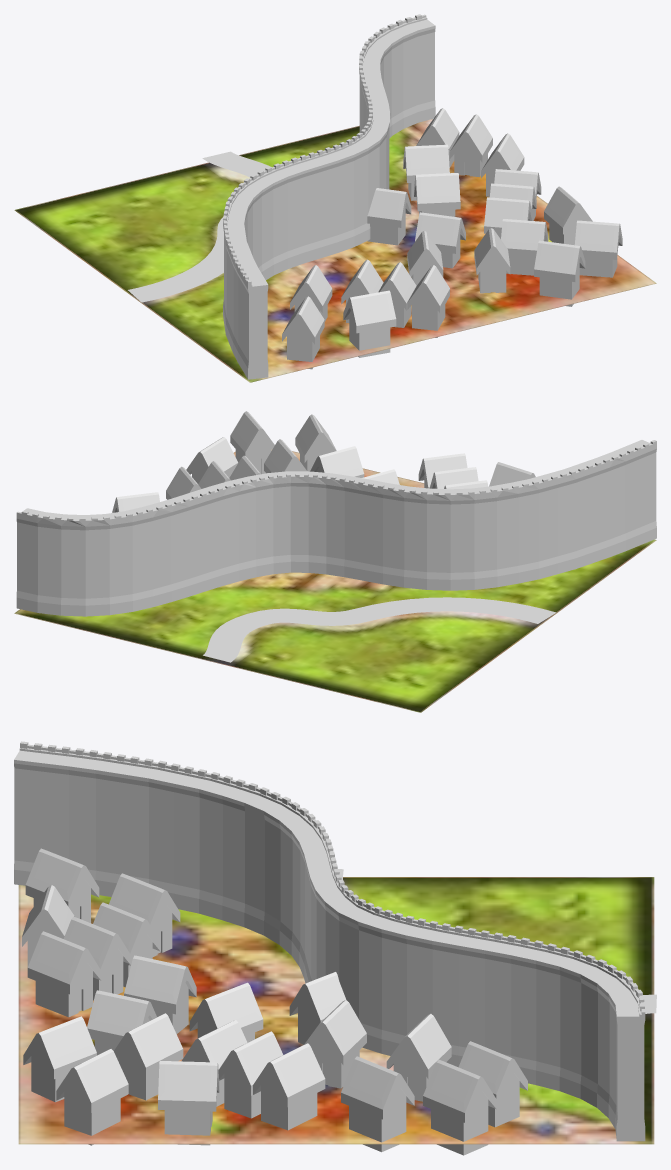
The model's file is tile13.fbx.
The picture shows the model from 3 angles, top to bottom: view 1: azimuth 30°, elevation 25°; view 2: azimuth 150°, elevation 25°; view 3: azimuth 270°, elevation 25°; orthographic projection. The views are drawn at different scales.
Visible parts, largest first — view 1: TILE13; view 2: TILE13; view 3: TILE13.
Part boxes in pixels (x1,y1,x2,y2): TILE13: [14, 14, 656, 382]; TILE13: [14, 411, 656, 712]; TILE13: [14, 741, 656, 1155].
Bounding box in the file's own units: 102 × 25.97 × 102.
